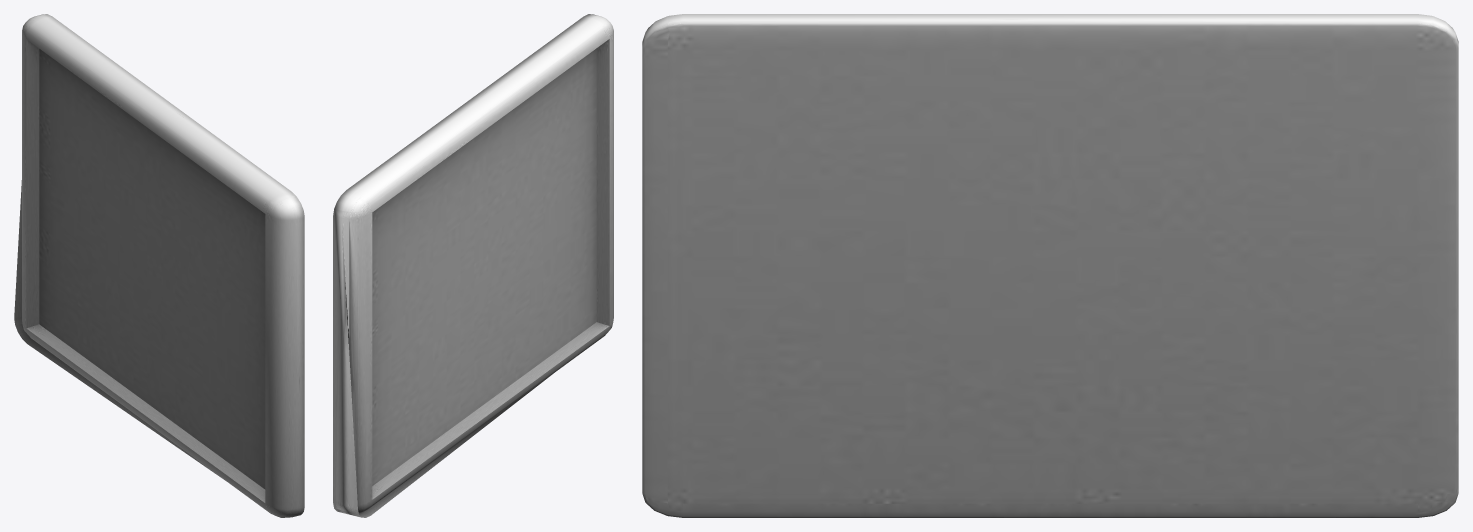
Rendered from Frame.fbx.
3 renders of one model, left to right at view 1: azimuth 30°, elevation 25°; view 2: azimuth 150°, elevation 25°; view 3: azimuth 270°, elevation 25°, orthographic. The views are drawn at different scales.
Parts seen in each view (by area): view 1: pCube20; view 2: pCube20; view 3: pCube20.
Boxes of the visible parts, bbox=[...] form: pCube20: bbox=[14, 14, 304, 517]; pCube20: bbox=[333, 14, 613, 517]; pCube20: bbox=[642, 14, 1458, 517].
Size of the model in its own units: 8.5 by 94.56 by 142.
1 material, 1 textured.
